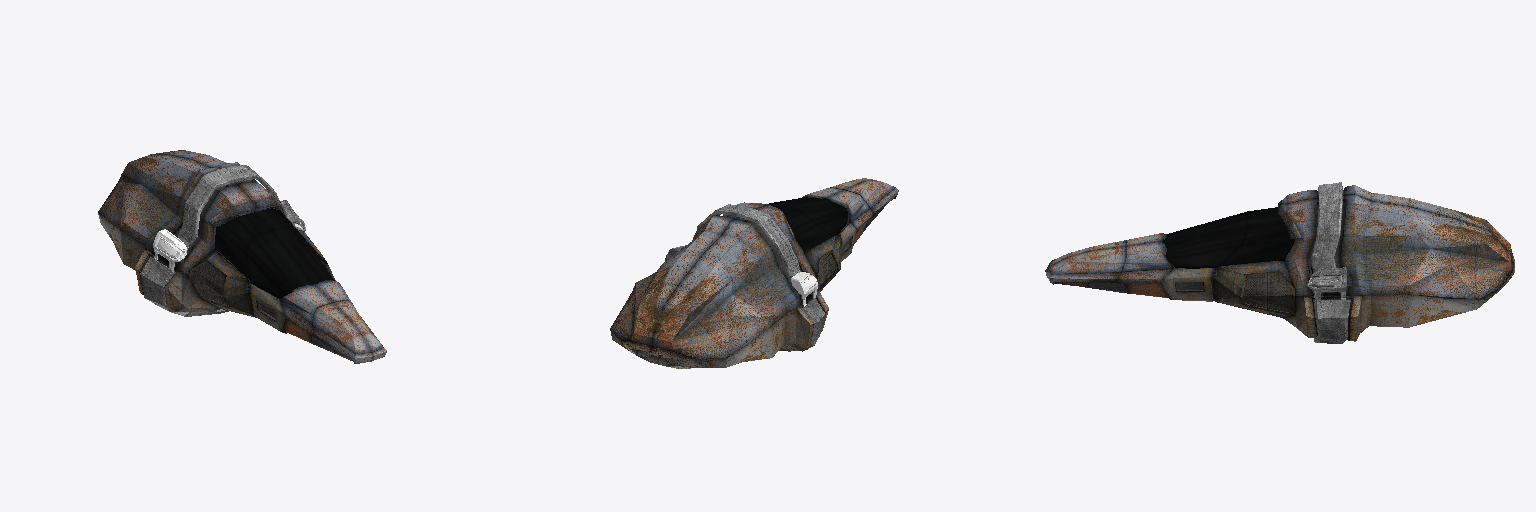
3 views of the same model, side by side, from view 1: azimuth 30°, elevation 25°; view 2: azimuth 150°, elevation 25°; view 3: azimuth 270°, elevation 25° (orthographic).
Visible parts, largest first — view 1: Mesh.002_Vaisseau.002; view 2: Mesh.002_Vaisseau.002; view 3: Mesh.002_Vaisseau.002.
Part boxes in pixels (x1,y1,x2,y2): Mesh.002_Vaisseau.002: (98, 150, 386, 363); Mesh.002_Vaisseau.002: (610, 178, 898, 368); Mesh.002_Vaisseau.002: (1045, 182, 1514, 343).
Size of the model in its own units: 5.11 by 3.84 by 12.49.
3 materials, 3 textured.